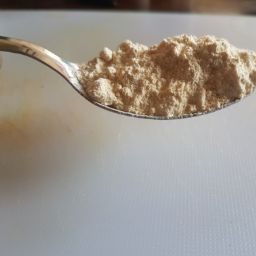Gram/ Flour: (72, 29, 256, 127), (124, 53, 245, 96)
